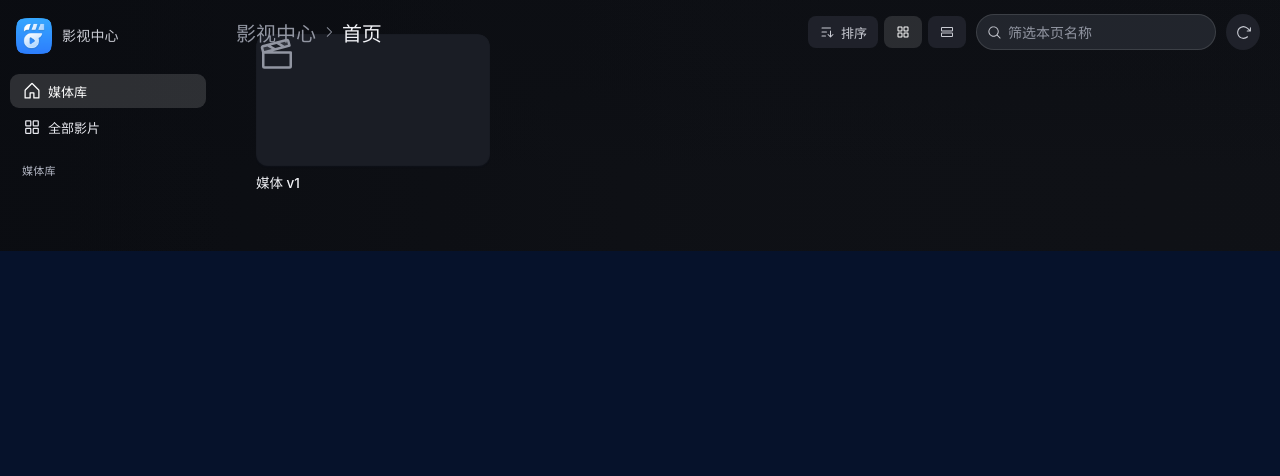
Test: 影视用海报比例卡片并保留播放遮罩，切到全部影片后进入影片详情
The width and height of the screenshot is (1280, 476).
Expected: the element with class "media-art" is shown, [256,34,490,166]
Step 1. Click the button "全部影片" → (108, 127), box [10,110,206,144]
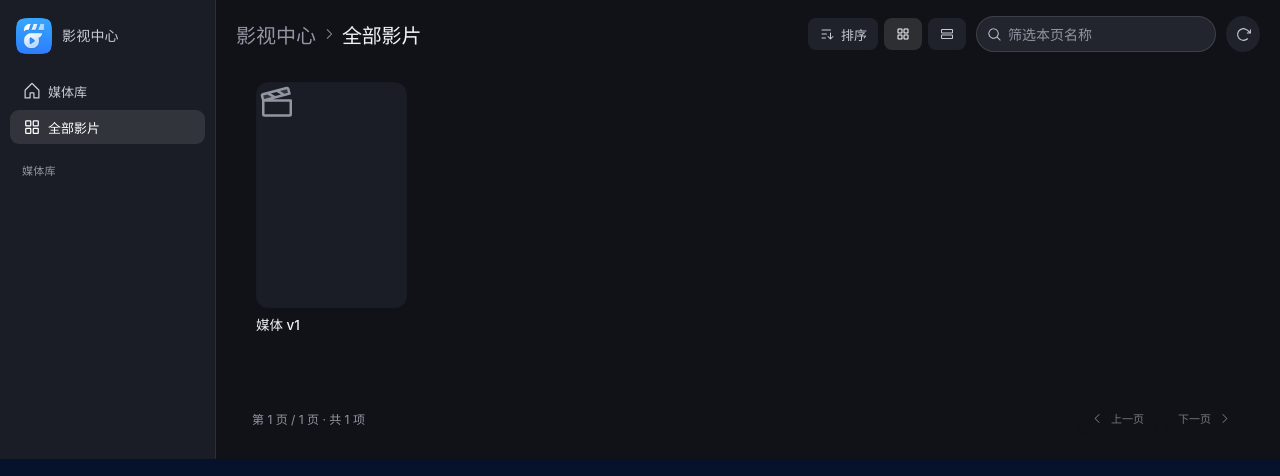
Step 2. Click the button "媒体 v1" → (331, 217), box [256,82,407,351]
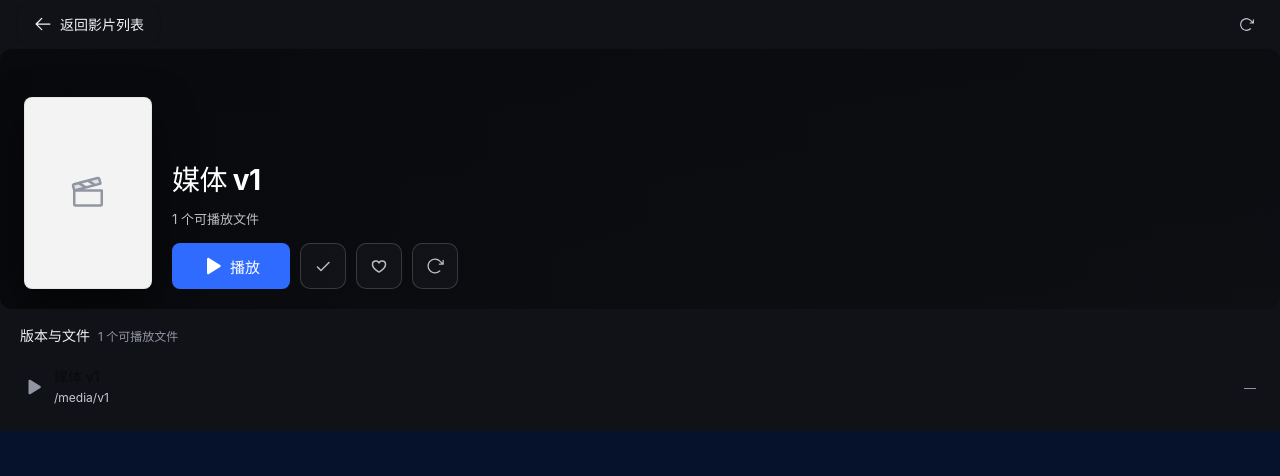
Expected: the button "返回影片列表" is shown, [16,6,161,42]
